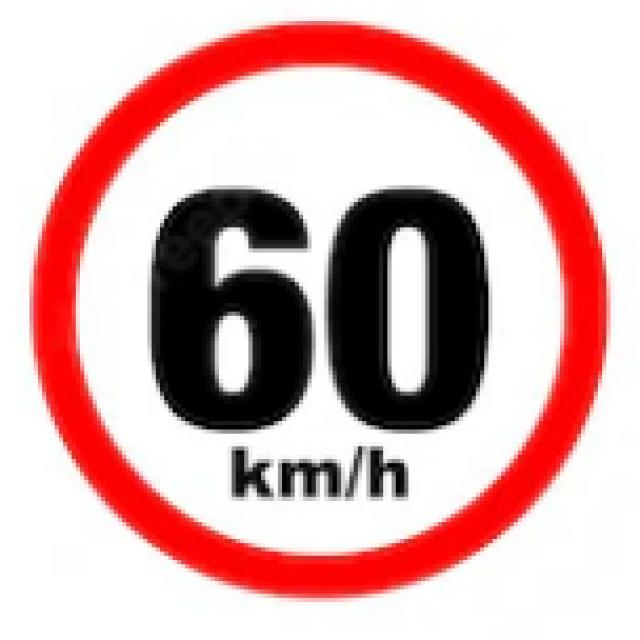Speed Limit -60-: (144, 186, 493, 440)
